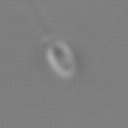normal: (16, 1, 51, 41)
